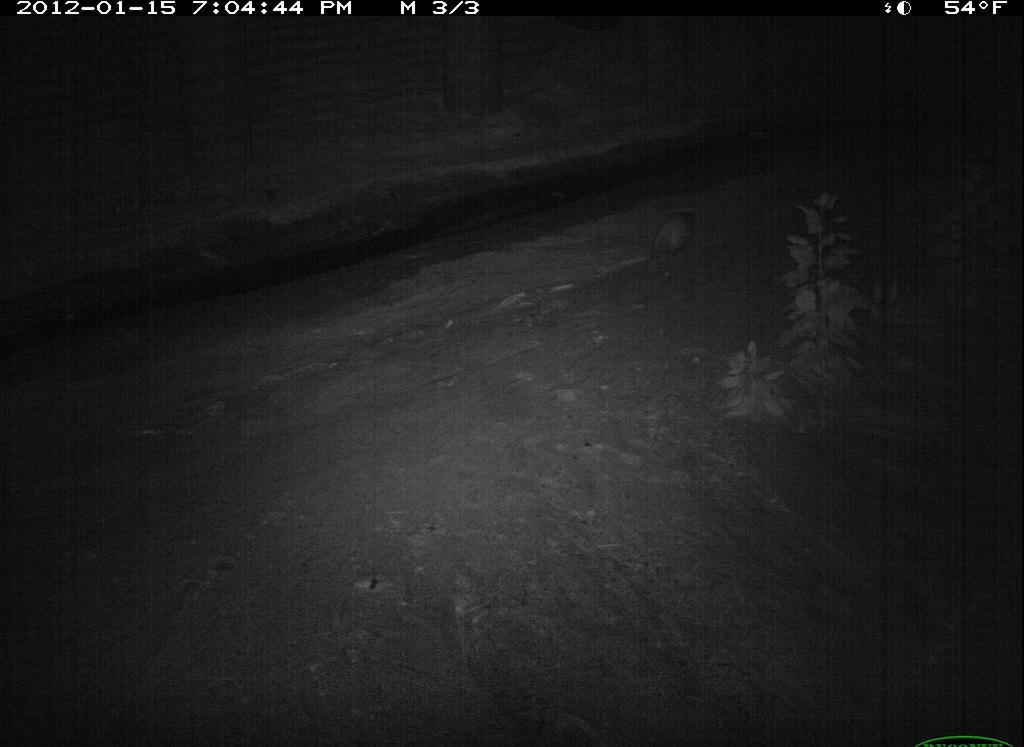opossum: (633, 200, 710, 281)
